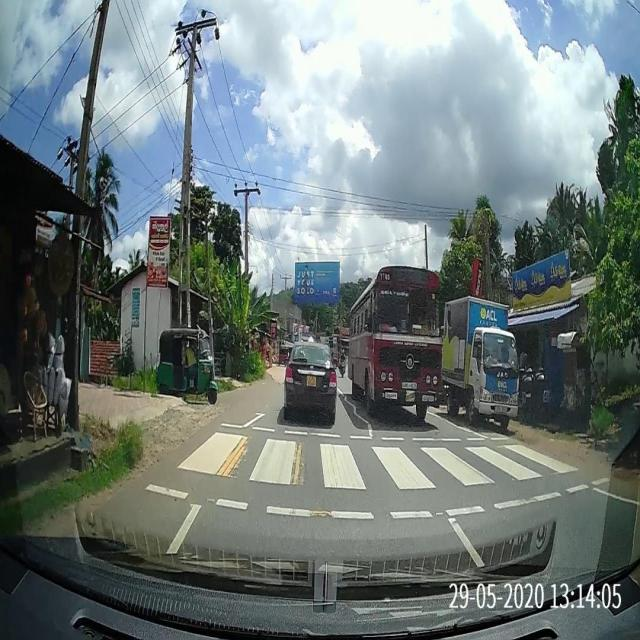Crosswalk: (135, 419, 624, 524)
